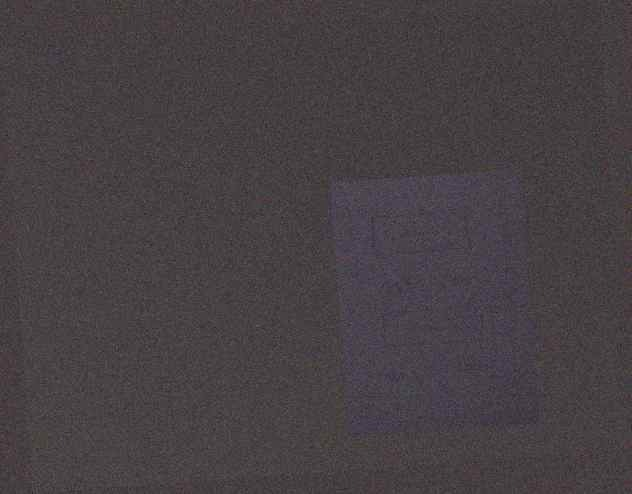button: (367, 206, 475, 262), (377, 302, 490, 354)
switch: (445, 273, 476, 293), (463, 358, 486, 376)
text: (379, 363, 440, 394), (373, 275, 427, 302)
